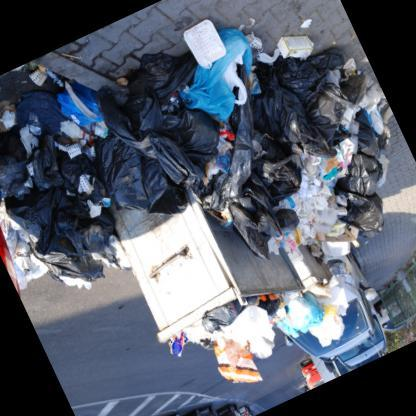Garbage: (129, 0, 415, 308), (153, 0, 360, 186), (11, 30, 189, 216), (0, 106, 90, 294), (169, 299, 290, 396), (214, 109, 314, 219), (200, 8, 320, 98), (233, 44, 316, 144), (278, 272, 374, 352), (34, 236, 114, 312), (163, 0, 236, 80), (92, 86, 150, 163), (332, 106, 390, 183), (336, 177, 395, 248), (286, 174, 342, 244), (0, 114, 41, 201), (290, 290, 346, 350)
